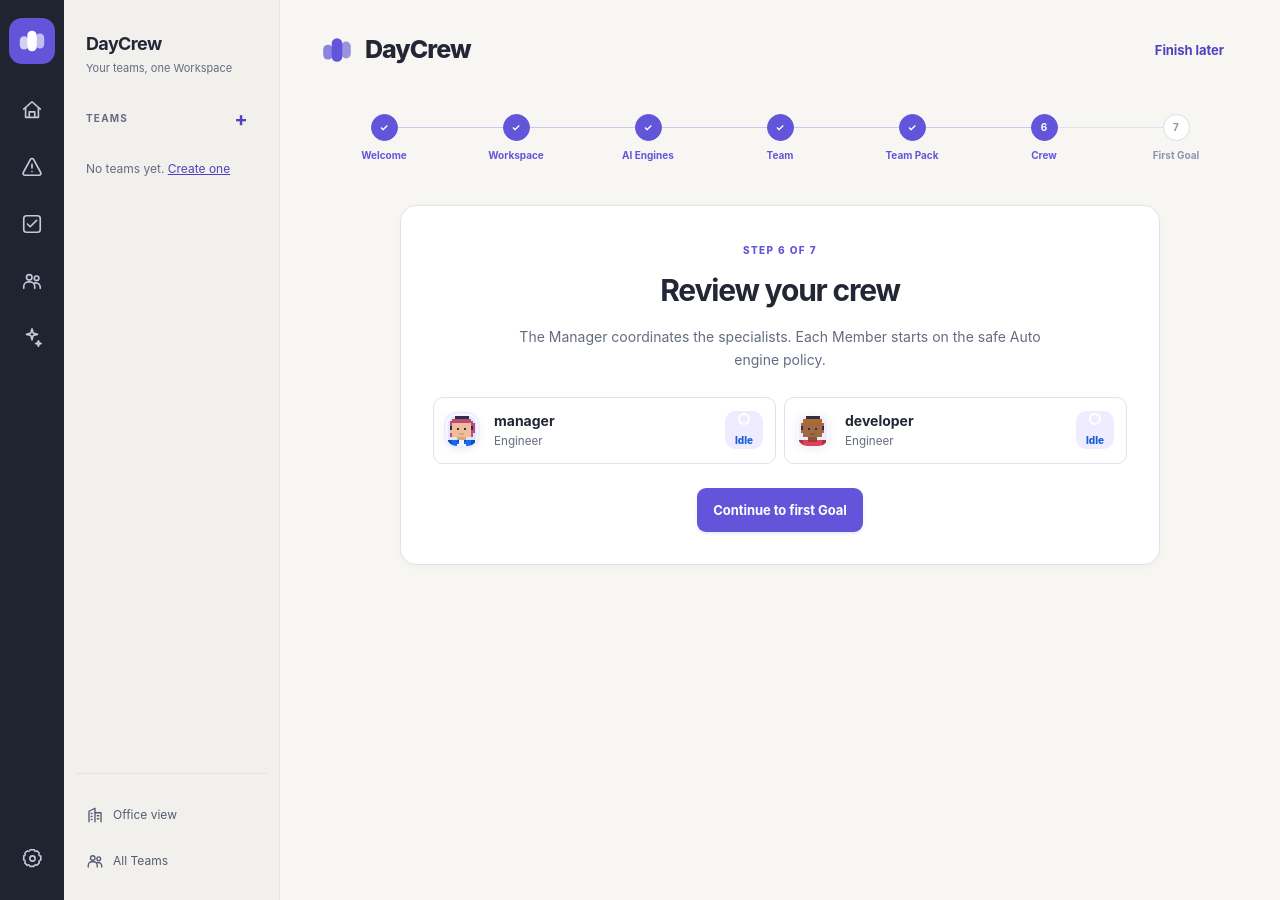
Onboarding first Mission › labels each Mission template with a short tile and loads its full brief
The image size is (1280, 900).
Click the button "Continue to first Goal". click: [780, 510]
box: [697,488,863,532]
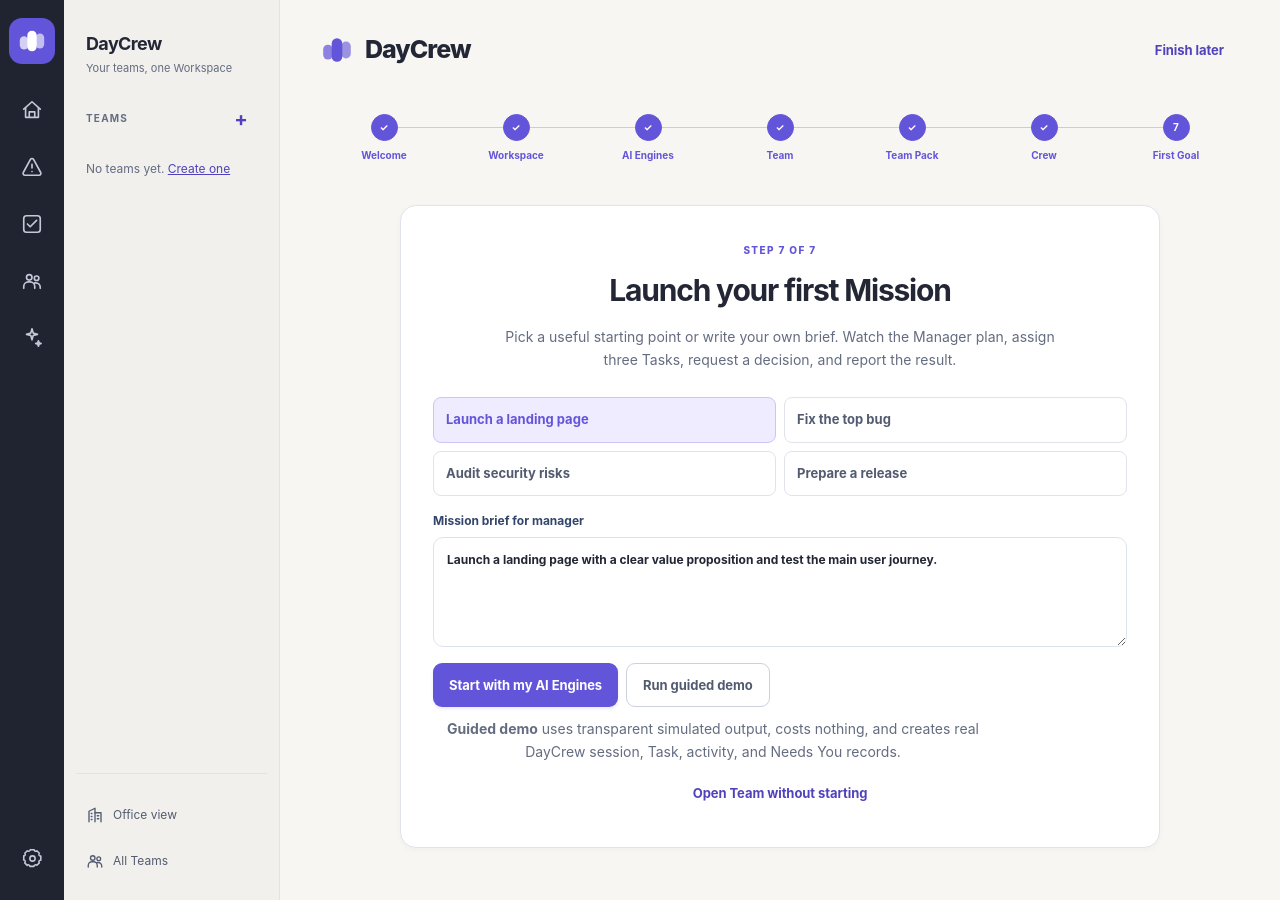
Click the button "Audit security risks". click: [508, 473]
box: [433,451,776,496]
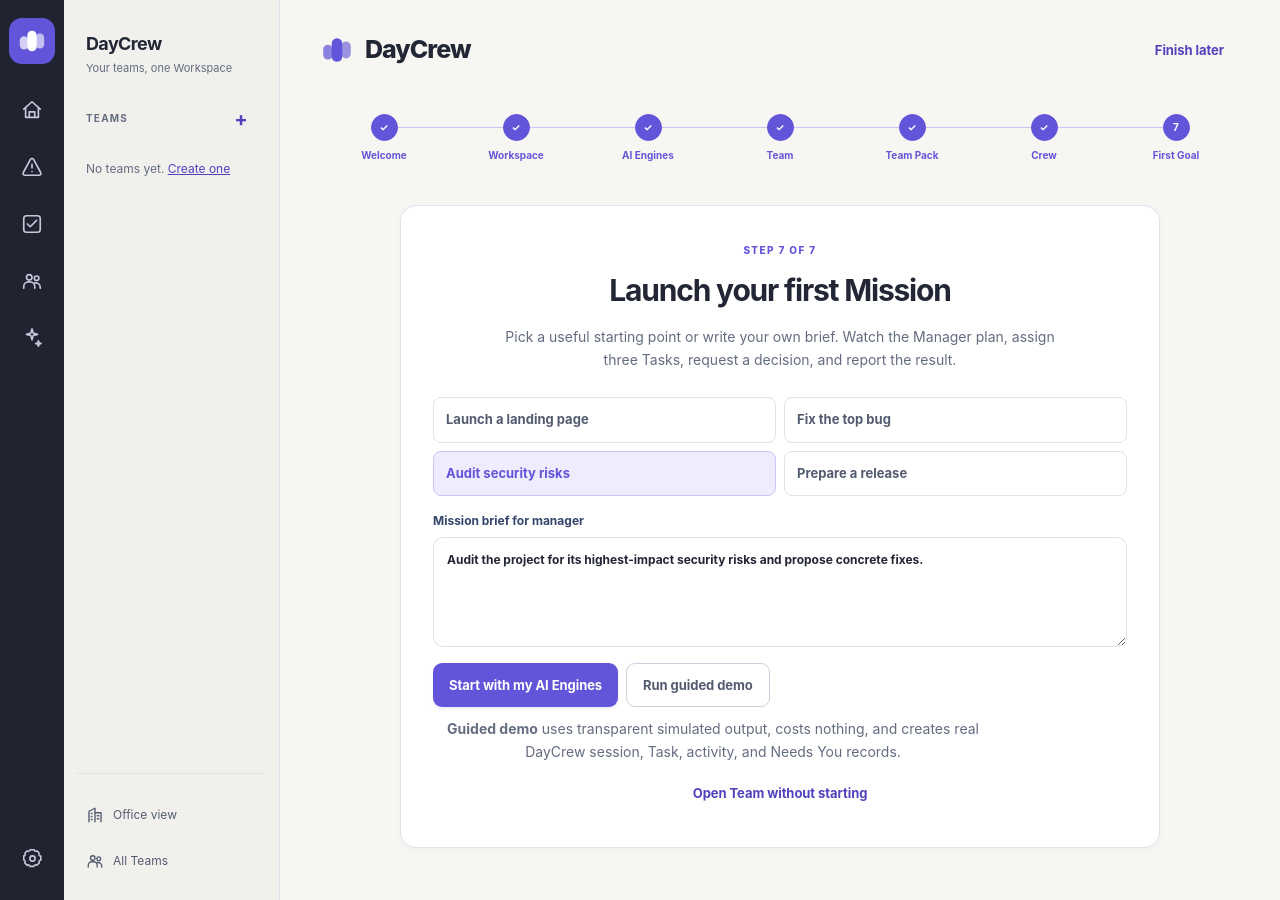
Expected: the text box holds "Audit the project for its highest-impact security risks and propose concrete fixes.", [433,537,1127,647]
